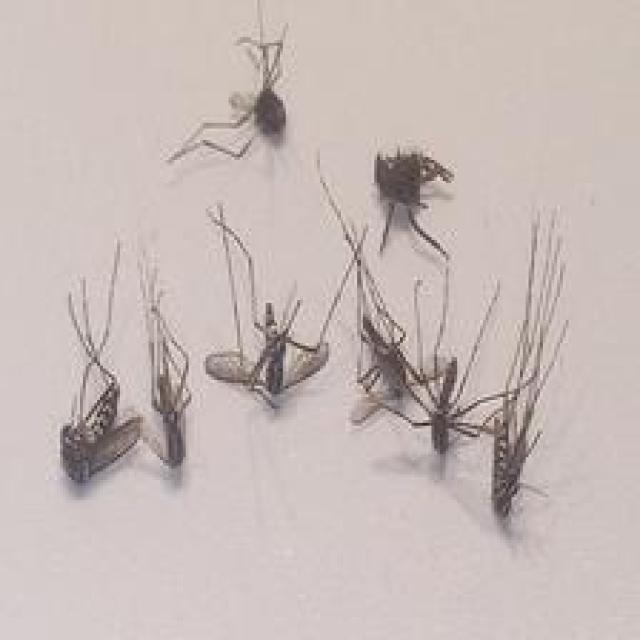Aedes albopictus: (372, 144, 454, 264)
